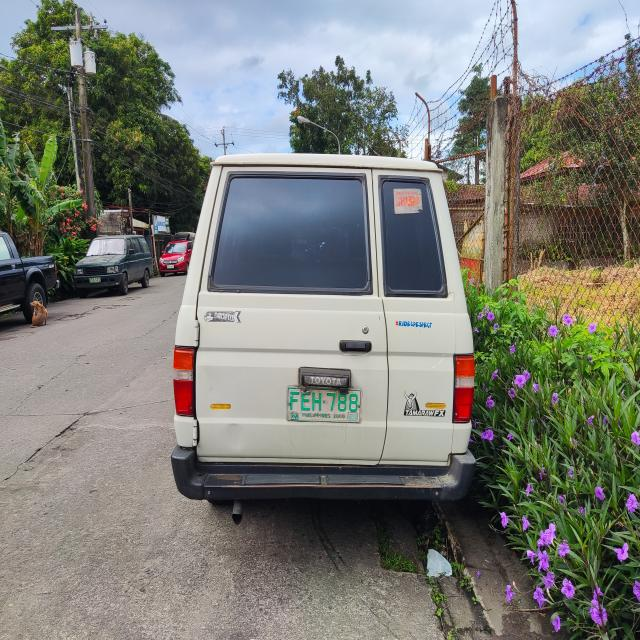plate: (286, 385, 362, 424)
